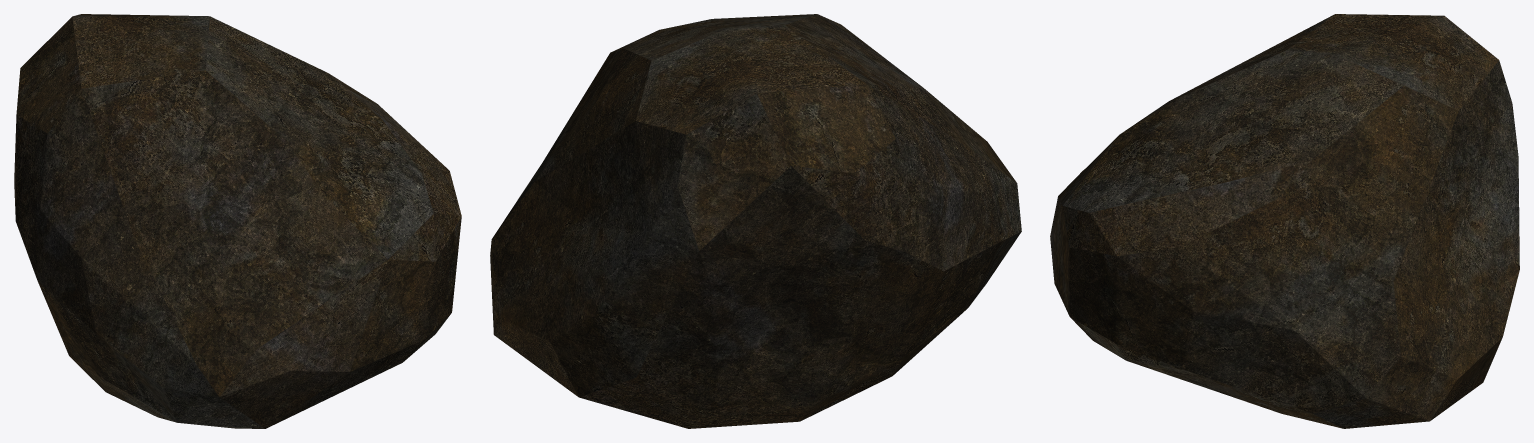
Rendered from rock.glb.
3 views of the same model, side by side, from view 1: azimuth 30°, elevation 25°; view 2: azimuth 150°, elevation 25°; view 3: azimuth 270°, elevation 25° (orthographic). The views are drawn at different scales.
Visible parts, largest first — view 1: rock; view 2: rock; view 3: rock.
Part boxes in pixels (x1=…): rock: x1=14, y1=14, x2=461, y2=428; rock: x1=490, y1=14, x2=1021, y2=428; rock: x1=1050, y1=14, x2=1519, y2=428.
Bounding box in the file's own units: 2.52 × 2.12 × 2.67.
1 material, 1 textured.
